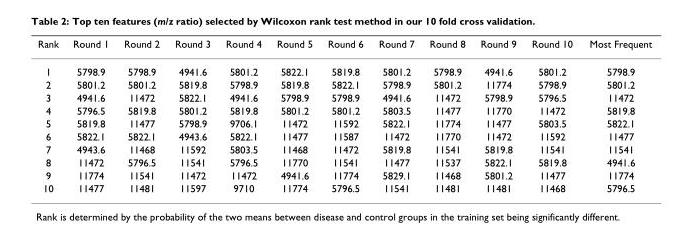table: (37, 37, 651, 193)
table column: (580, 37, 651, 193), (523, 37, 580, 193), (115, 37, 166, 193), (166, 37, 217, 193), (217, 37, 268, 193), (268, 37, 319, 193), (319, 37, 370, 193), (370, 37, 421, 193), (421, 37, 472, 193), (472, 37, 523, 193), (65, 37, 115, 193), (37, 37, 65, 193)
table column header: (37, 37, 651, 57)
table row: (37, 37, 651, 57), (37, 57, 651, 77), (37, 77, 651, 90), (37, 90, 651, 103), (37, 103, 651, 116), (37, 116, 651, 129), (37, 129, 651, 142), (37, 142, 651, 155), (37, 155, 651, 168), (37, 168, 651, 181), (37, 181, 651, 193)
